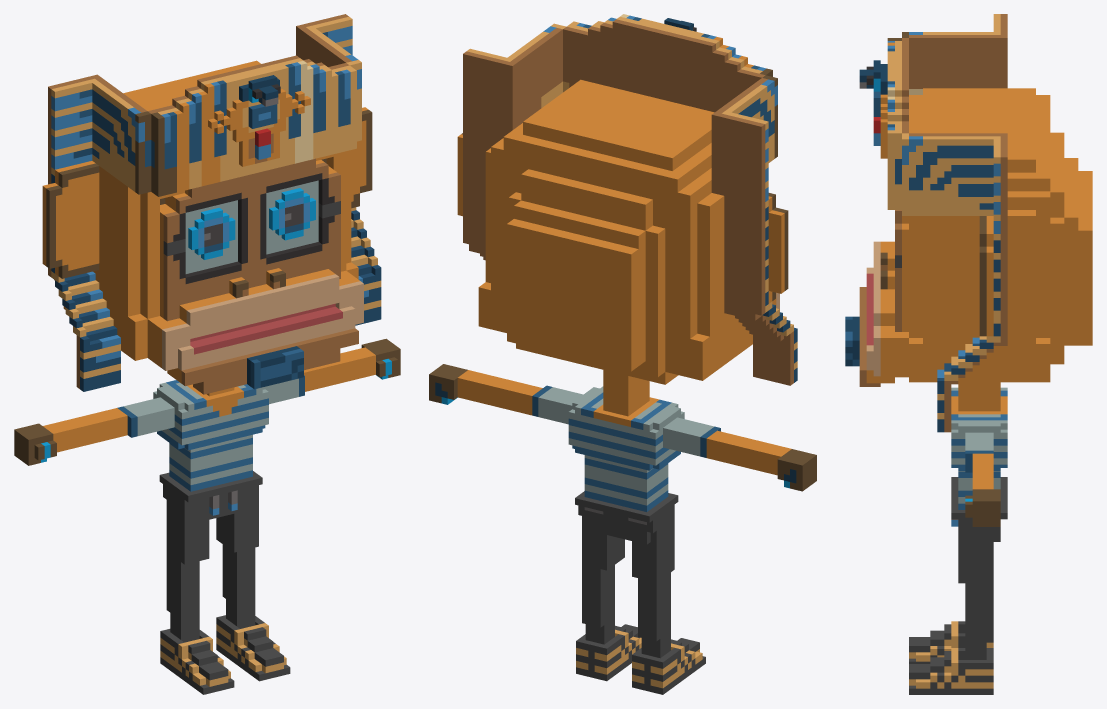
The model's file is asset.glb.
3 renders of one model, left to right at view 1: azimuth 30°, elevation 25°; view 2: azimuth 150°, elevation 25°; view 3: azimuth 270°, elevation 25°, orthographic.
Parts seen in each view (by area): view 1: Chimp Egyptian; view 2: Chimp Egyptian; view 3: Chimp Egyptian.
Part boxes in pixels (x1=…): Chimp Egyptian: x1=14, y1=14, x2=400, y2=694; Chimp Egyptian: x1=429, y1=14, x2=816, y2=694; Chimp Egyptian: x1=845, y1=14, x2=1092, y2=694.
Size of the model in its own units: 6 by 9.5 by 3.5.
1 material, 1 textured.
